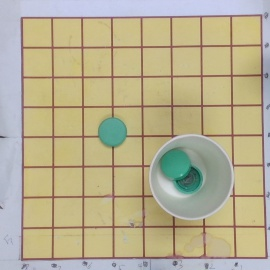cup_green: (147, 134, 236, 222)
green: (97, 118, 128, 148)
